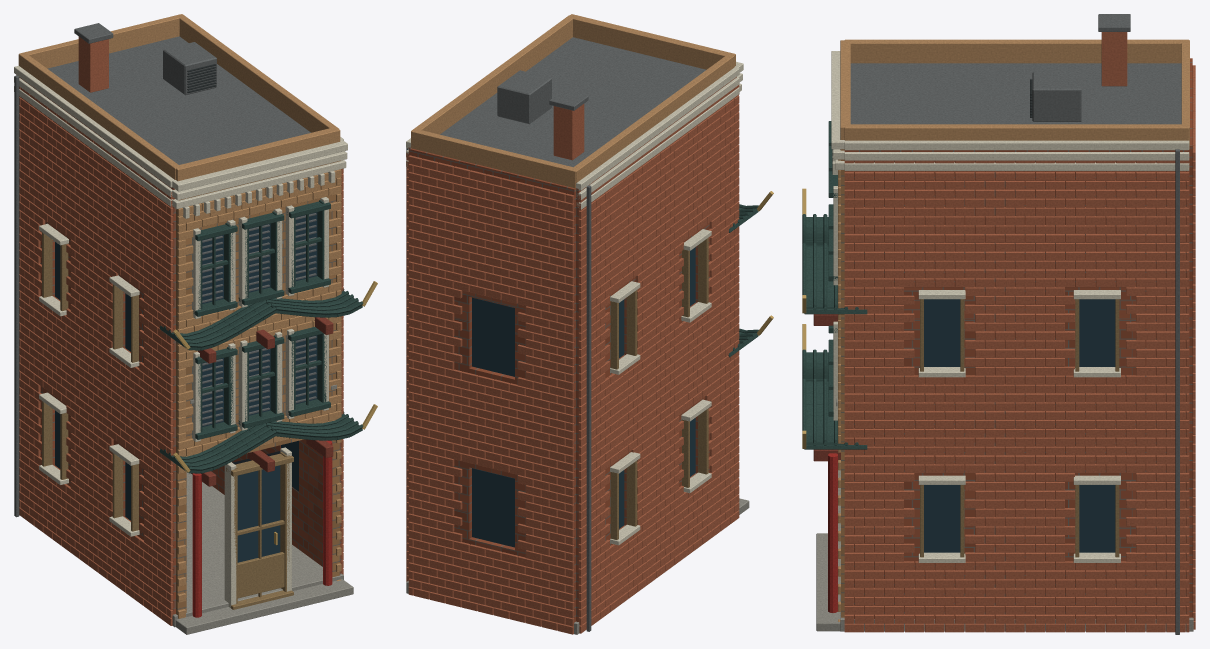
File: CHINA15_lod0.glb
The picture shows the model from 3 angles, left to right: view 1: azimuth 30°, elevation 25°; view 2: azimuth 150°, elevation 25°; view 3: azimuth 270°, elevation 25°; orthographic projection. The views are drawn at different scales.
Parts seen in each view (by area): view 1: CHINA15_LOD0; view 2: CHINA15_LOD0; view 3: CHINA15_LOD0.
Boxes of the visible parts, left/top/right/bottom form: CHINA15_LOD0: left=14, top=14, right=377, bottom=634; CHINA15_LOD0: left=406, top=14, right=773, bottom=634; CHINA15_LOD0: left=802, top=14, right=1195, bottom=634.
Size of the model in its own units: 4.49 by 10.45 by 6.85.
Materials: 19 (16 with a texture image).
